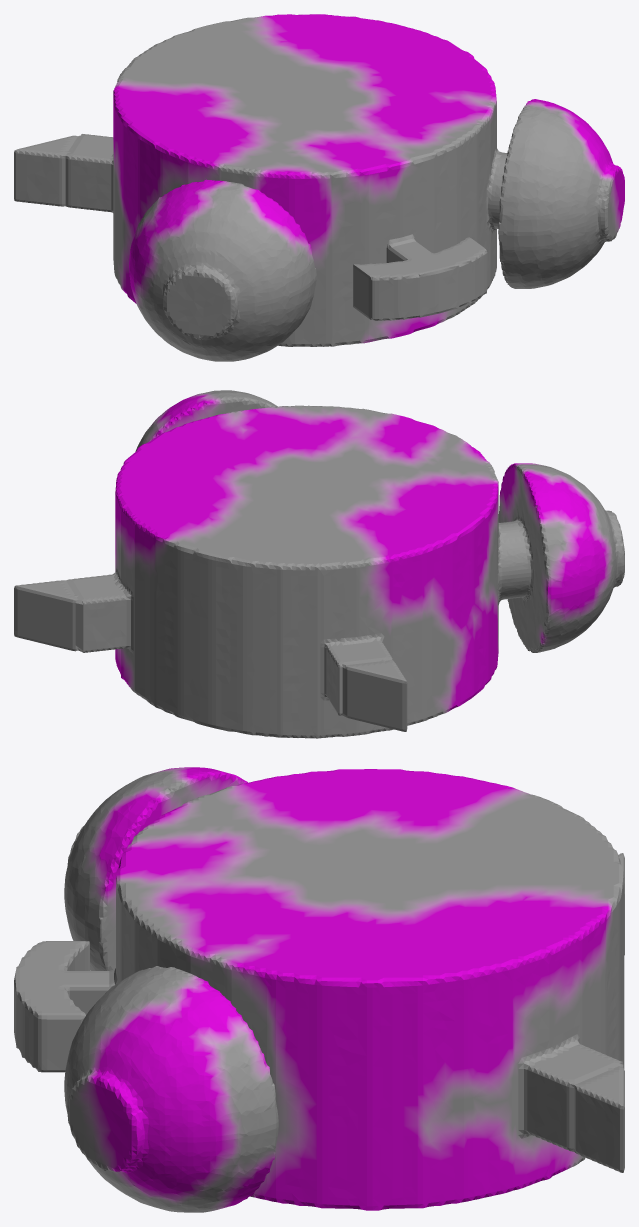
File: alarmclock.glb
3 renders of one model, top to bottom at view 1: azimuth 30°, elevation 25°; view 2: azimuth 150°, elevation 25°; view 3: azimuth 270°, elevation 25°, orthographic. The views are drawn at different scales.
Parts seen in each view (by area): view 1: alarmclock.obj; view 2: alarmclock.obj; view 3: alarmclock.obj.
Part boxes in pixels (x1,y1,x2,y2): alarmclock.obj: [14, 14, 624, 361]; alarmclock.obj: [14, 390, 624, 738]; alarmclock.obj: [14, 767, 624, 1212].
Bounding box in the file's own units: 0.1257 × 0.0451 × 0.1082.
